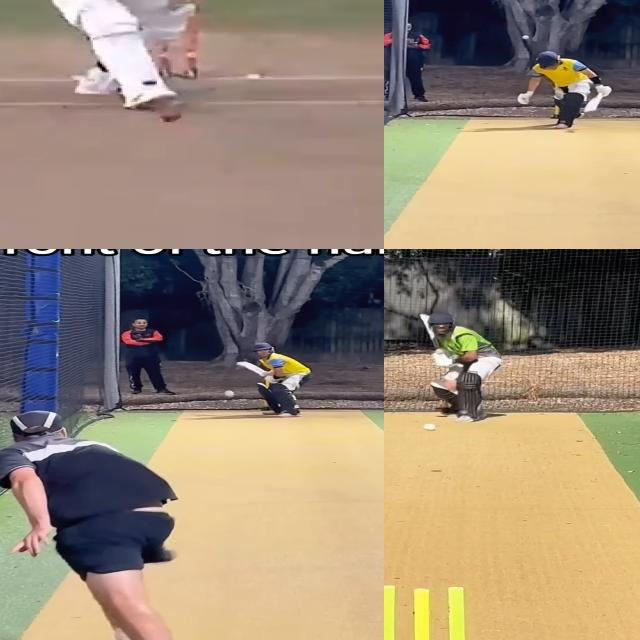Cricket ball: (156, 107, 186, 125), (422, 422, 437, 431), (224, 390, 235, 397), (521, 34, 530, 40)
Stumps: (384, 584, 488, 640)
